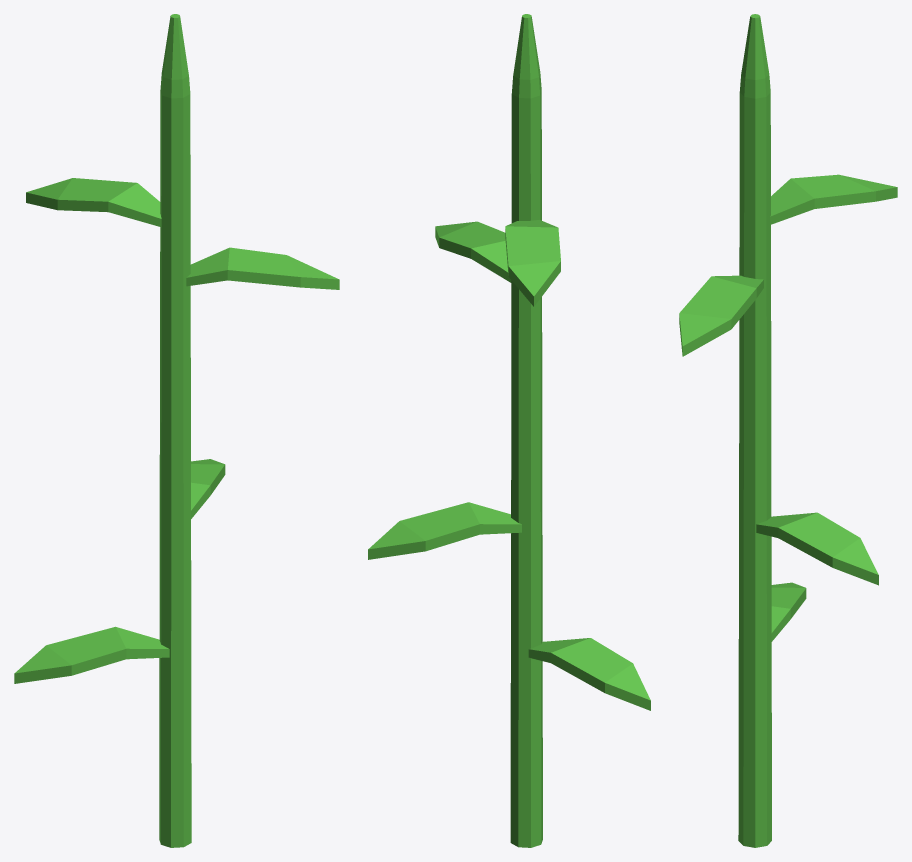
File: corn_adult.fbx
3 views of the same model, side by side, from view 1: azimuth 30°, elevation 25°; view 2: azimuth 150°, elevation 25°; view 3: azimuth 270°, elevation 25° (orthographic).
Visible parts, largest first — view 1: corn_adult; view 2: corn_adult; view 3: corn_adult.
Part boxes in pixels (x1,y1,x2,y2): corn_adult: (14,14,339,847); corn_adult: (368,14,650,847); corn_adult: (679,14,897,847).
Size of the model in its own units: 42.09 by 123 by 29.41.
